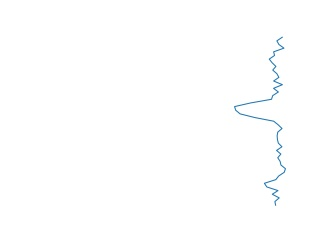interdistributaryEstuary: (232, 36, 295, 206)
